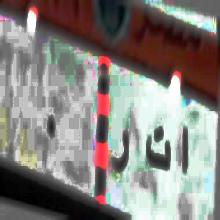0: (42, 105, 58, 150)
alif: (177, 123, 191, 179)
raa: (110, 122, 130, 183)
taa: (143, 115, 171, 177)
